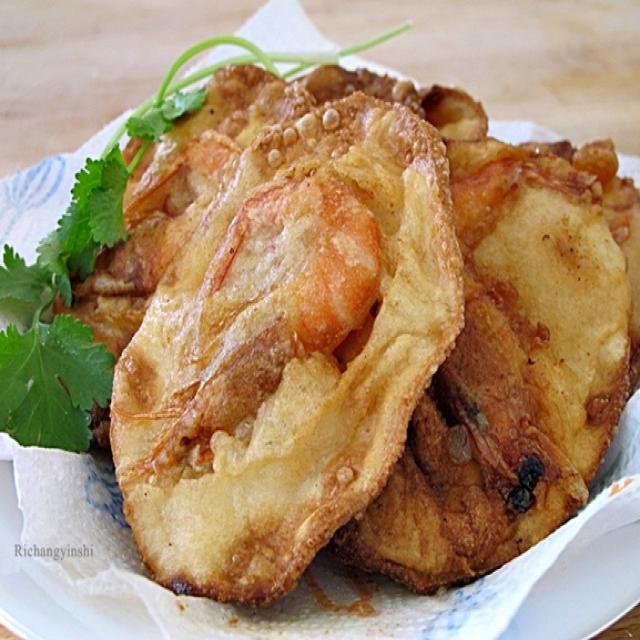炸货点心: (18, 24, 626, 624)
熟制海鲜: (18, 24, 626, 624)
